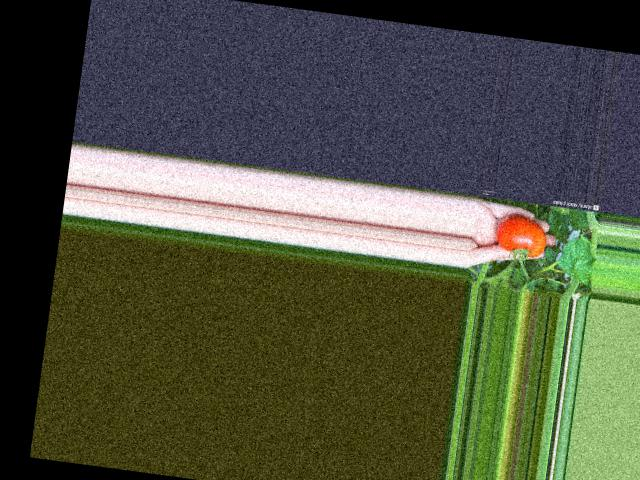tomato: (493, 213, 548, 258)
